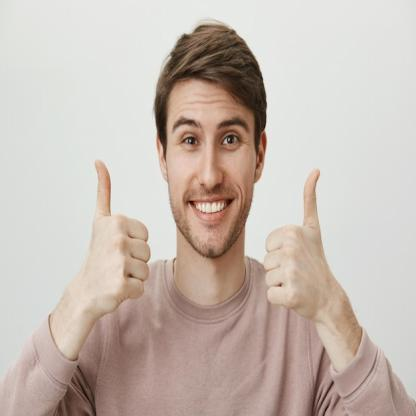thumb_up: (260, 162, 330, 316), (84, 156, 152, 313)
